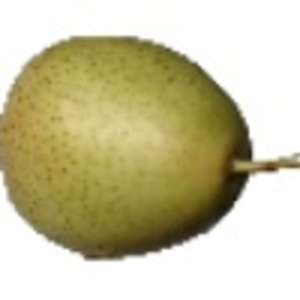pera: (1, 35, 300, 263)
